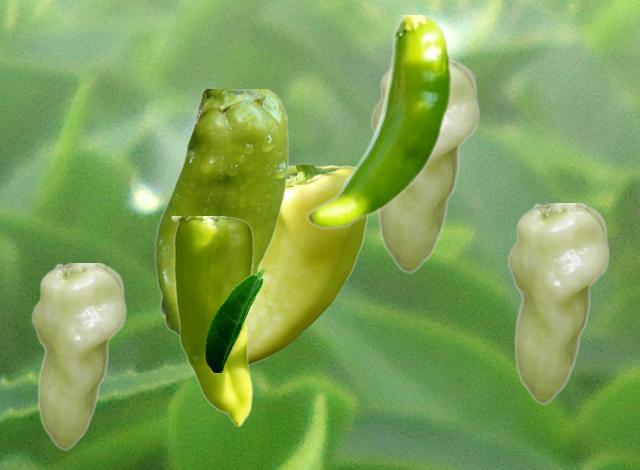green_chili: (154, 89, 287, 336), (305, 15, 452, 229), (247, 165, 368, 365), (368, 58, 478, 272), (505, 203, 608, 403), (29, 263, 125, 449), (170, 216, 252, 425)
